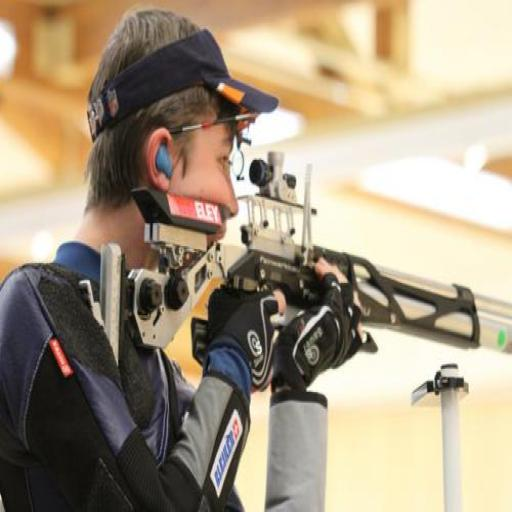shooting: (0, 6, 368, 511)
